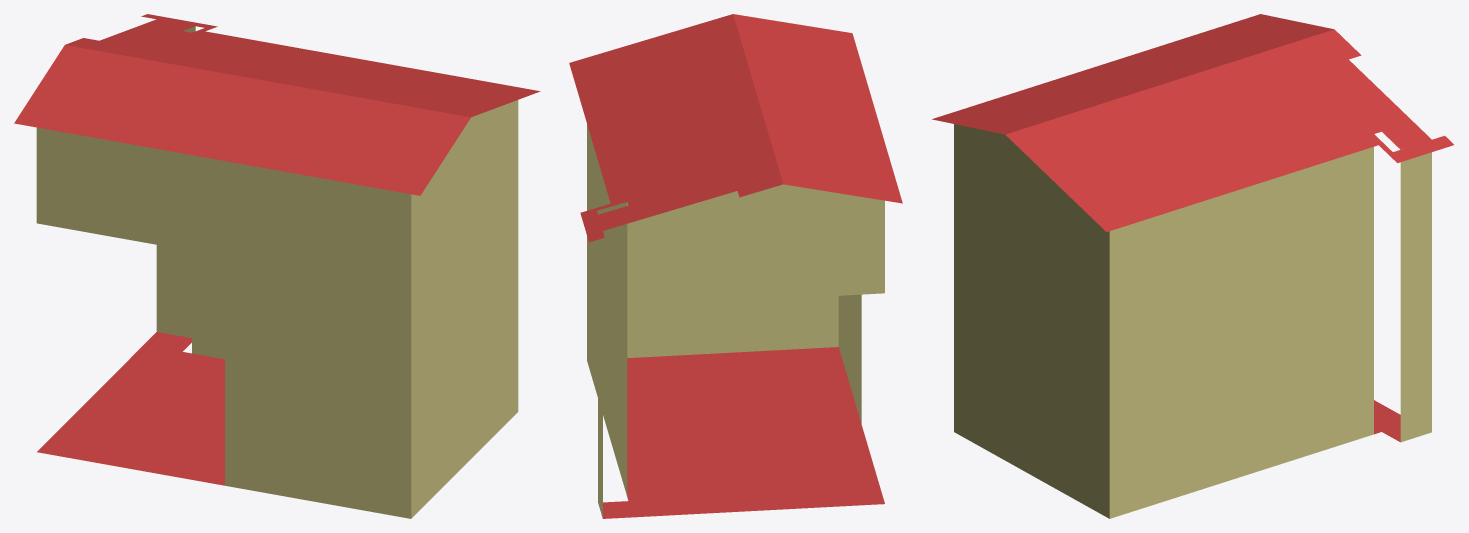
3 renders of one model, left to right at view 1: azimuth 30°, elevation 25°; view 2: azimuth 150°, elevation 25°; view 3: azimuth 270°, elevation 25°, orthographic. The views are drawn at different scales.
Bounding box in the file's own units: 14.88 × 16.2 × 11.52.
